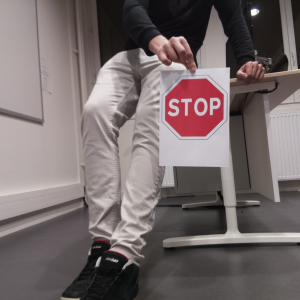stop: (161, 74, 228, 139)
